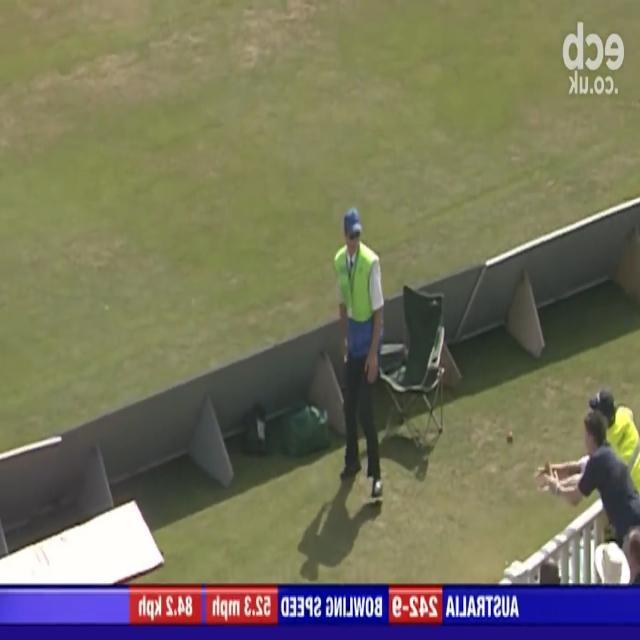ball: (502, 432, 516, 448)
